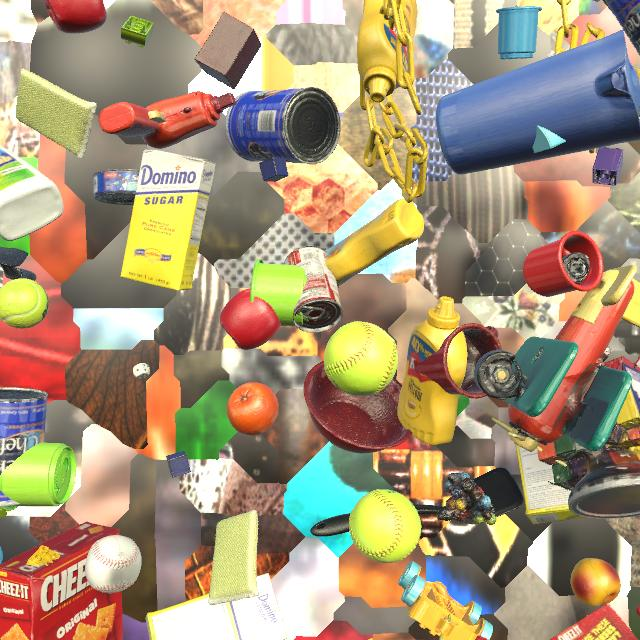ycb_002_master_chef_can: (225, 87, 341, 164), (0, 387, 48, 507), (605, 0, 640, 55)
ycb_003_cracker_box: (0, 521, 123, 640), (550, 604, 638, 640)
ycb_004_sugar_box: (121, 149, 216, 291), (145, 573, 288, 640), (508, 403, 585, 524)
ycb_005_tomato_soup_can: (284, 246, 343, 333)
ycb_006_mustard_bottle: (397, 296, 467, 446), (325, 199, 424, 288), (357, 0, 417, 102)
ycb_007_tuna_fish_can: (93, 169, 140, 205)
ycb_009_gelatin_box: (635, 355, 640, 367)
ycb_013_apple: (220, 288, 281, 350), (44, 0, 106, 34)
ycb_015_peach: (571, 558, 621, 607)
ycb_017_orange: (227, 382, 279, 436)
